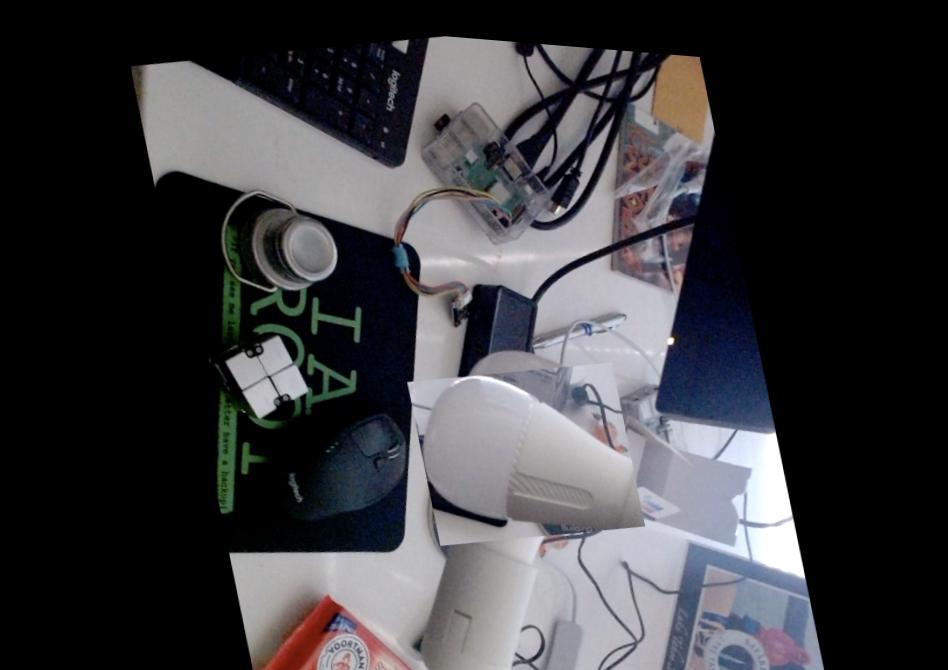Fan: (412, 330, 634, 560)
